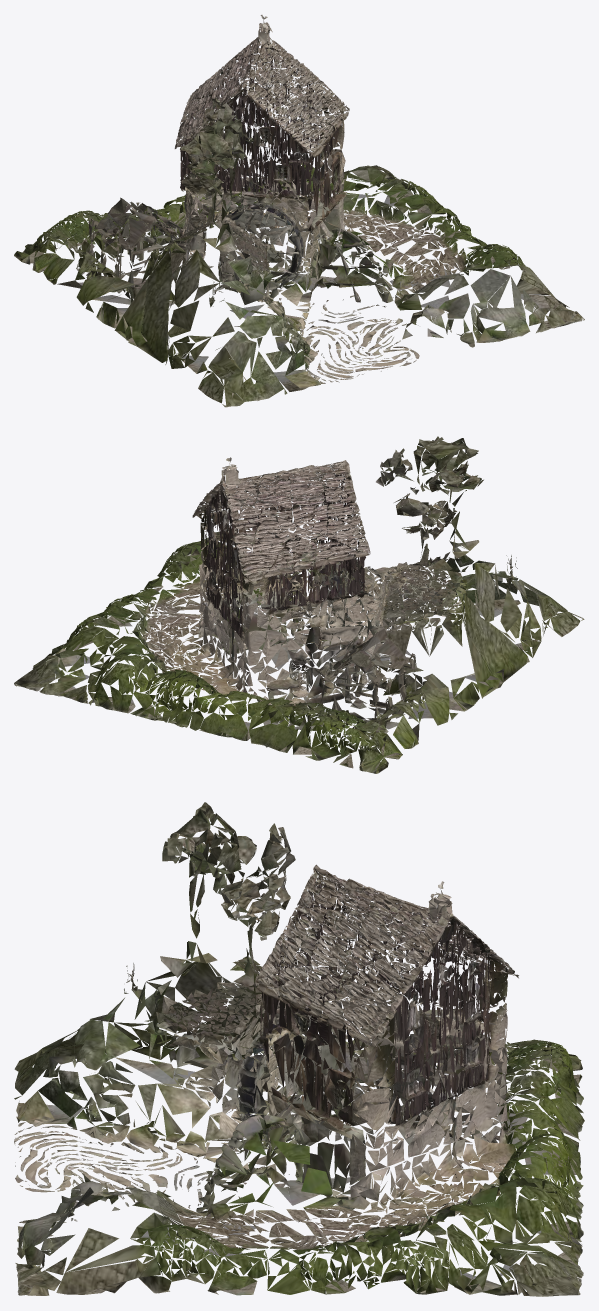
Rendered from o76_su_degirmeni.glb.
The picture shows the model from 3 angles, top to bottom: view 1: azimuth 30°, elevation 25°; view 2: azimuth 150°, elevation 25°; view 3: azimuth 270°, elevation 25°; orthographic projection. The views are drawn at different scales.
Visible parts, largest first — view 1: Mesh_0; view 2: Mesh_0; view 3: Mesh_0.
Boxes of the visible parts, left/top/right/bottom form: Mesh_0: left=14, top=14, right=584, bottom=407; Mesh_0: left=14, top=436, right=584, bottom=773; Mesh_0: left=14, top=802, right=584, bottom=1296.
Size of the model in its own units: 1.89 by 1.15 by 1.9.
1 material, 1 textured.
